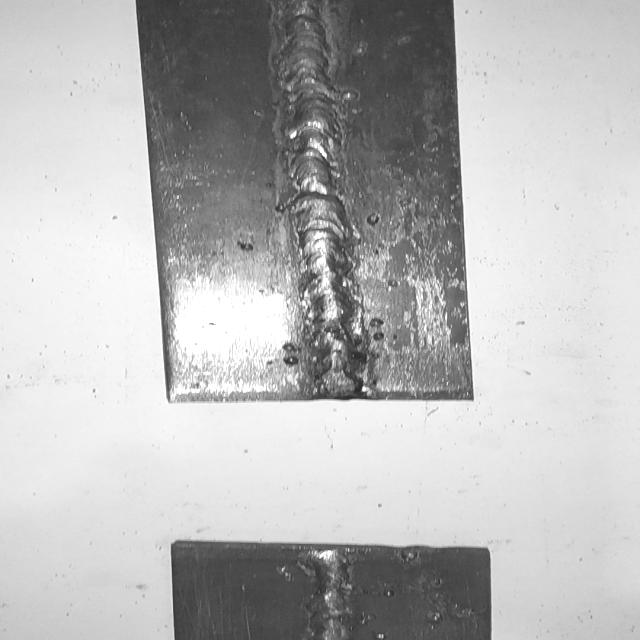Good Weld: (268, 0, 376, 393), (294, 546, 356, 640)
